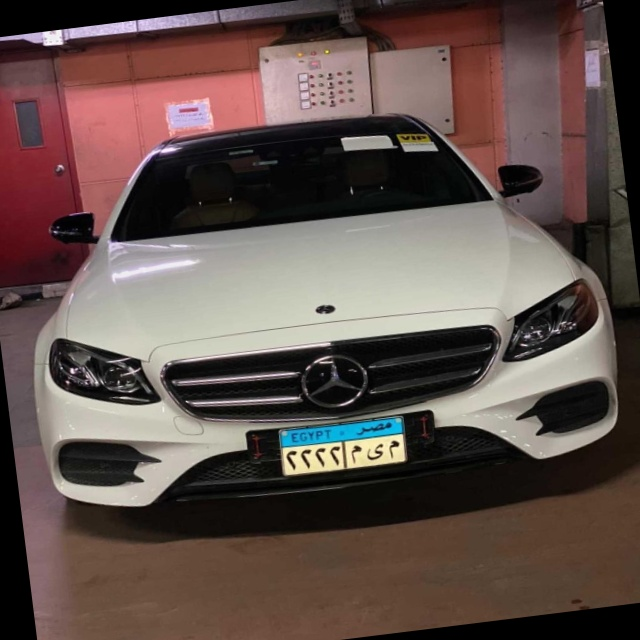License Plate: (276, 415, 411, 479)
